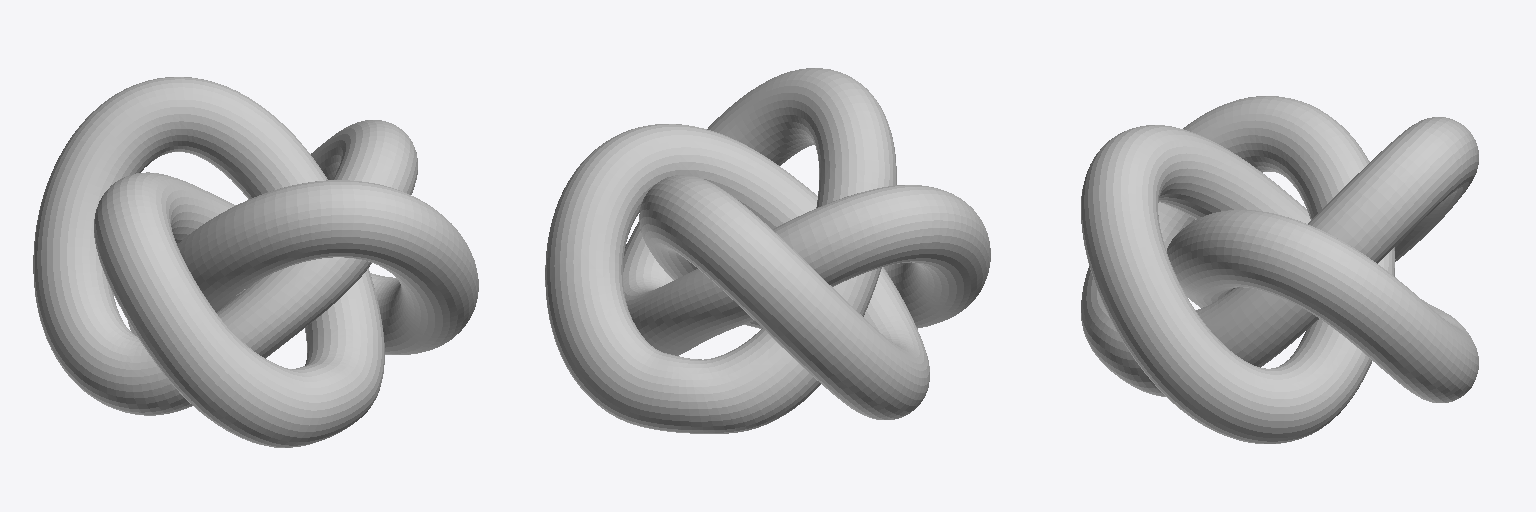
The model's file is knot.obj.
3 views of the same model, side by side, from view 1: azimuth 30°, elevation 25°; view 2: azimuth 150°, elevation 25°; view 3: azimuth 270°, elevation 25° (orthographic).
Visible parts, largest first — view 1: fca75fb15fe94fbdbe91f1cb501cce69; view 2: fca75fb15fe94fbdbe91f1cb501cce69; view 3: fca75fb15fe94fbdbe91f1cb501cce69.
Boxes of the visible parts, <box> form: fca75fb15fe94fbdbe91f1cb501cce69: <box>33,77,478,447</box>; fca75fb15fe94fbdbe91f1cb501cce69: <box>545,68,990,433</box>; fca75fb15fe94fbdbe91f1cb501cce69: <box>1081,96,1478,443</box>.
Size of the model in its own units: 2.55 by 1.75 by 2.55.